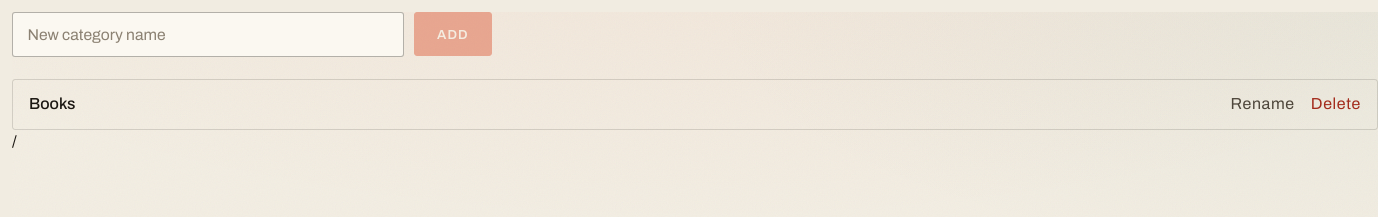
AdminCategoriesPage › shows a duplicate-name error
The image size is (1378, 217).
Expected: the text "Books" is shown, top-left (29, 92), bottom-right (75, 117)
In the field with placeholder "New category name": (208, 34) top-left (12, 12), bottom-right (404, 57), type "Books"
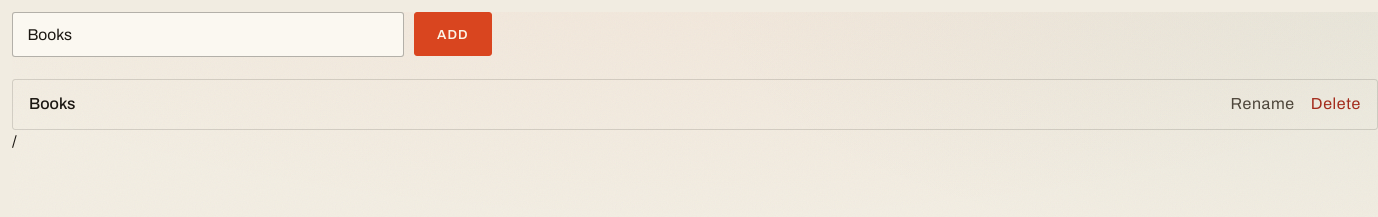
Click the button "Add": (453, 34) top-left (414, 12), bottom-right (492, 56)
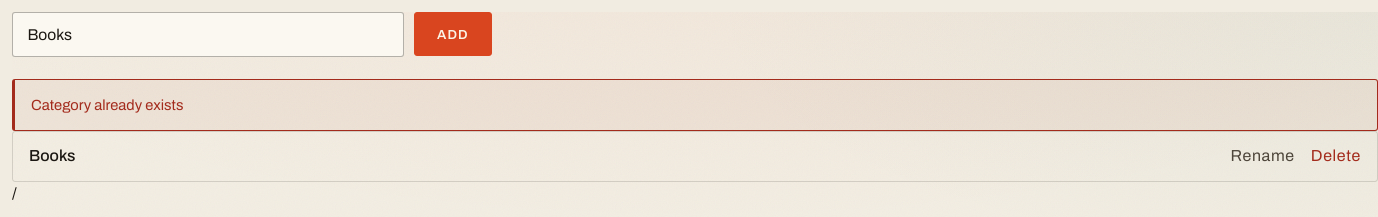
Expected: the message reads "Category already exists", top-left (31, 97), bottom-right (183, 113)
